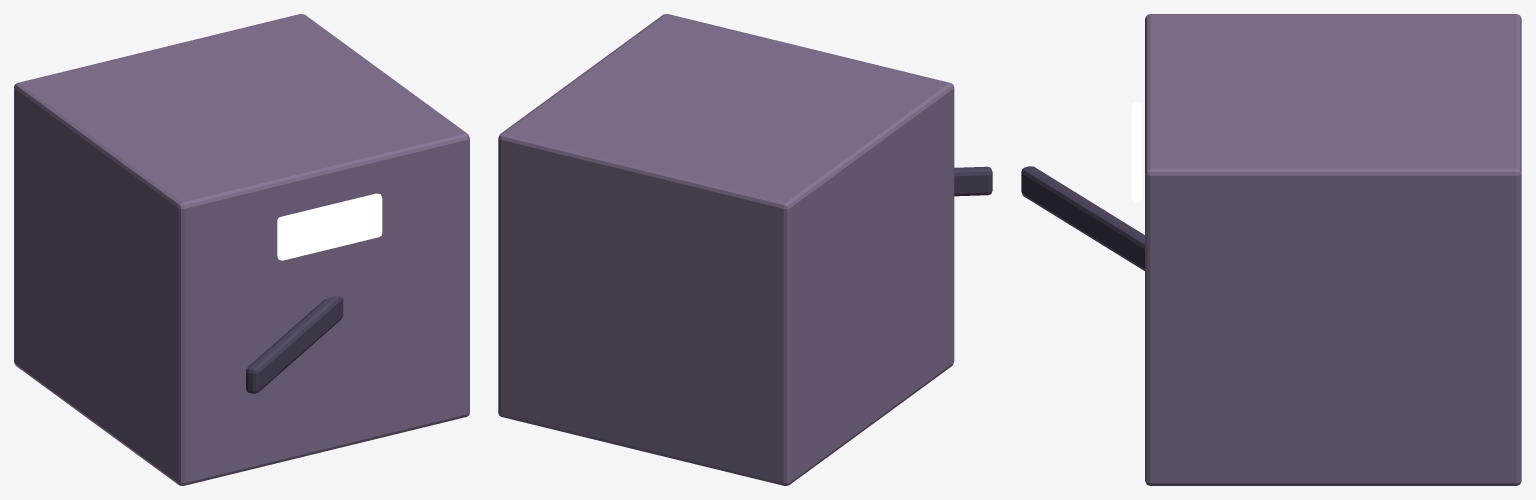
File: SM_Labor_Crate.fbx
3 views of the same model, side by side, from view 1: azimuth 30°, elevation 25°; view 2: azimuth 150°, elevation 25°; view 3: azimuth 270°, elevation 25° (orthographic). The views are drawn at different scales.
Parts seen in each view (by area): view 1: SM_Labor_Crate; view 2: SM_Labor_Crate; view 3: SM_Labor_Crate.
Boxes of the visible parts, box(x1,y1,x2,y2) form: SM_Labor_Crate: box(14, 14, 469, 485); SM_Labor_Crate: box(498, 14, 992, 485); SM_Labor_Crate: box(1021, 14, 1521, 485).
Bounding box in the file's own units: 1.4 × 1.3 × 1.86.
